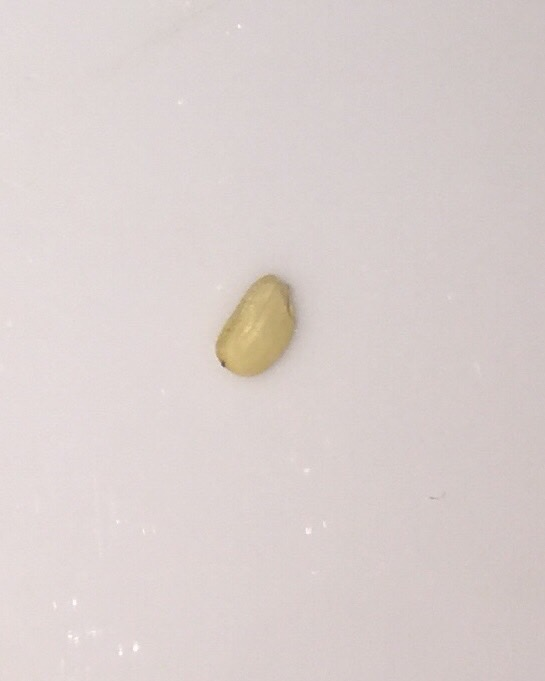Gao Lut Bac: (209, 275, 318, 389)
